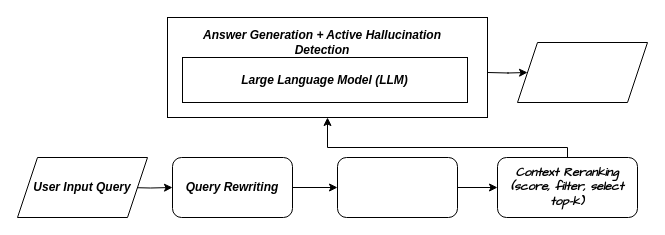
This 665x235 diagram has some shape labels left out. The shapes that lost their labels are listed below. From the top down, each one's box as (x1, y1, x2, y2) in pixels, then its label:
(516, 42, 648, 102): Final Answer
(336, 156, 458, 218): Retriever Engine
